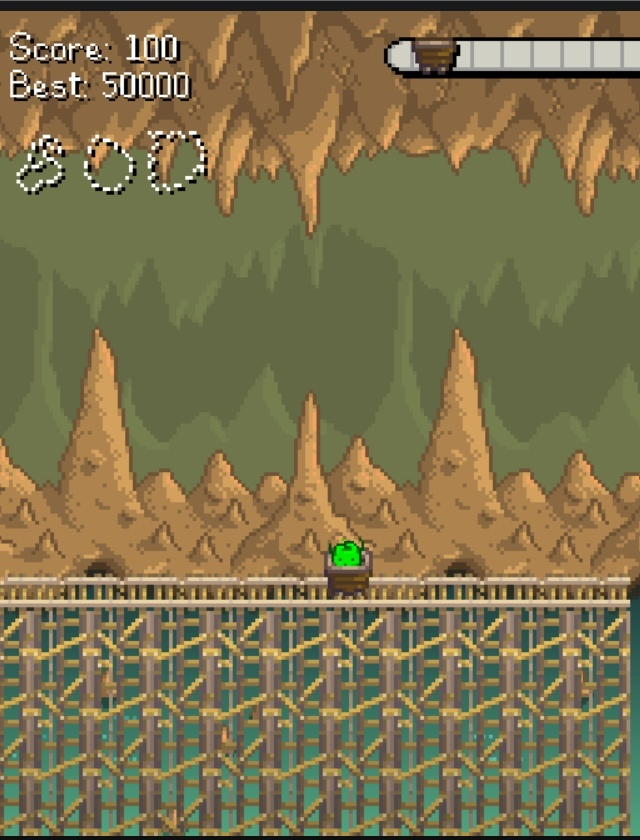minecart: (325, 540, 371, 594)
tracks: (0, 568, 312, 618)
